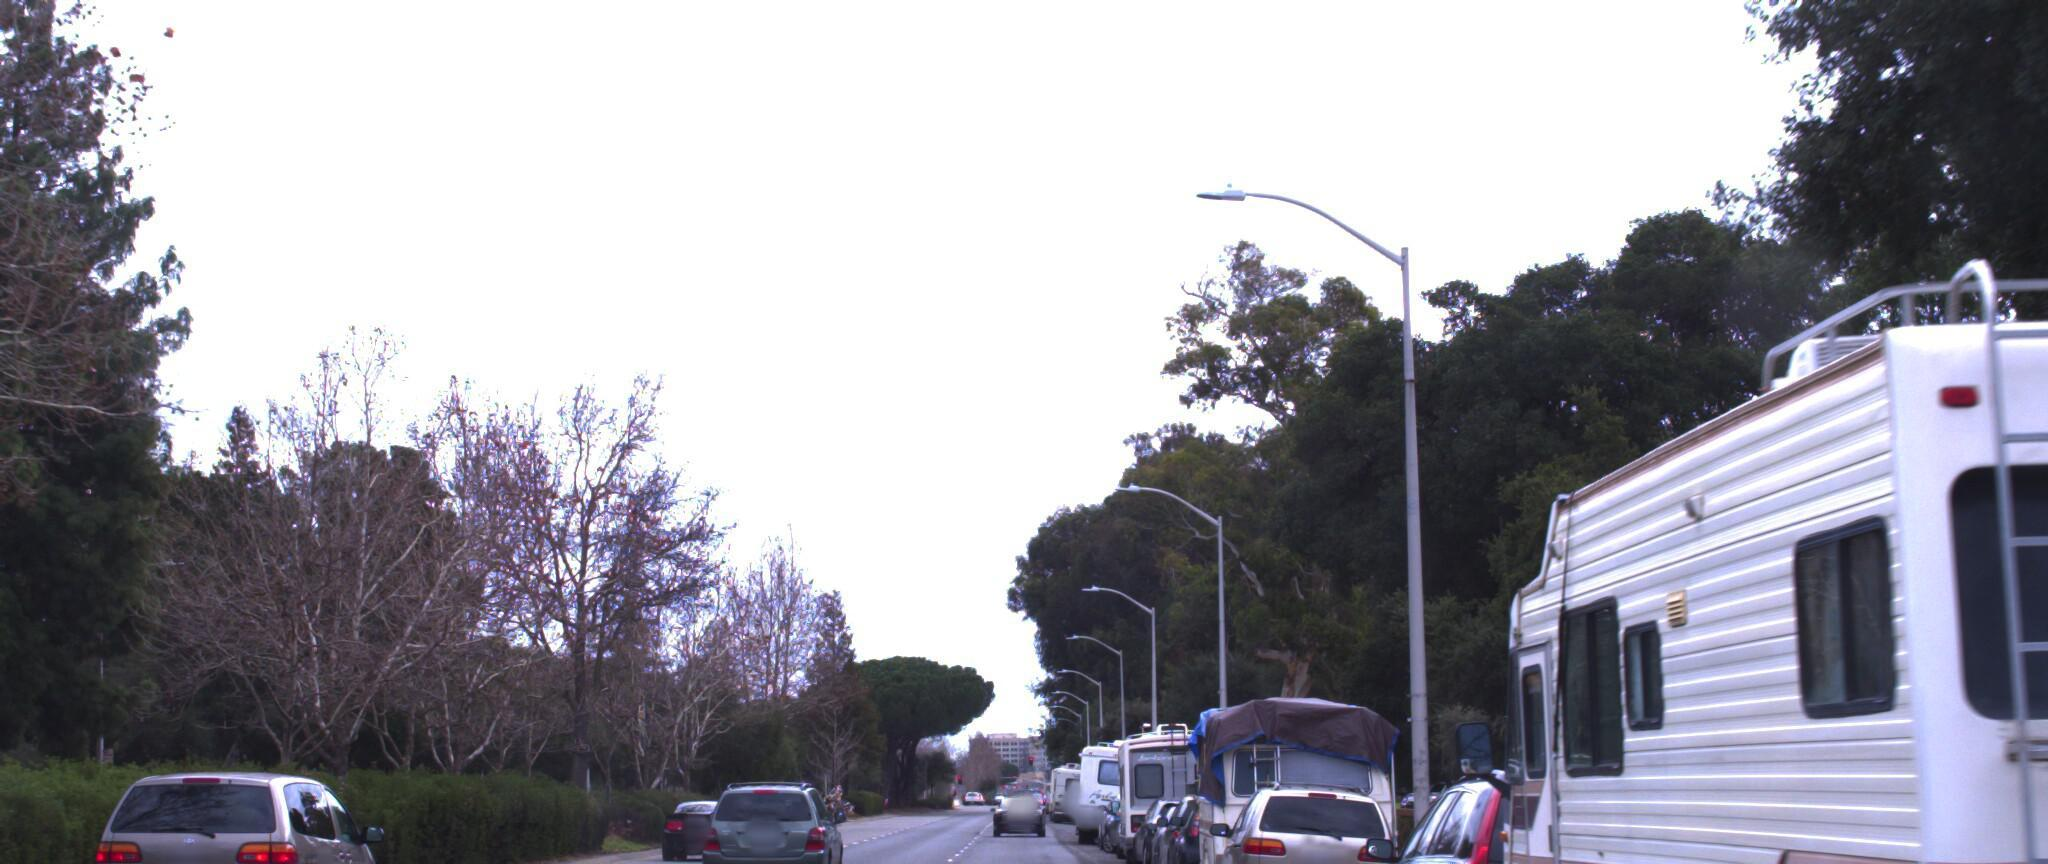car: (1320, 750, 1736, 864), (78, 747, 414, 864), (1187, 766, 1403, 864), (709, 765, 849, 864), (1155, 777, 1281, 864)
other_vehicle: (1422, 211, 2048, 864), (1164, 685, 1404, 864), (1096, 707, 1236, 860)
